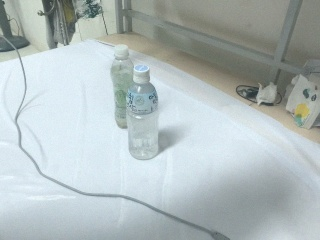bottle: (124, 61, 163, 161), (109, 44, 135, 128)
